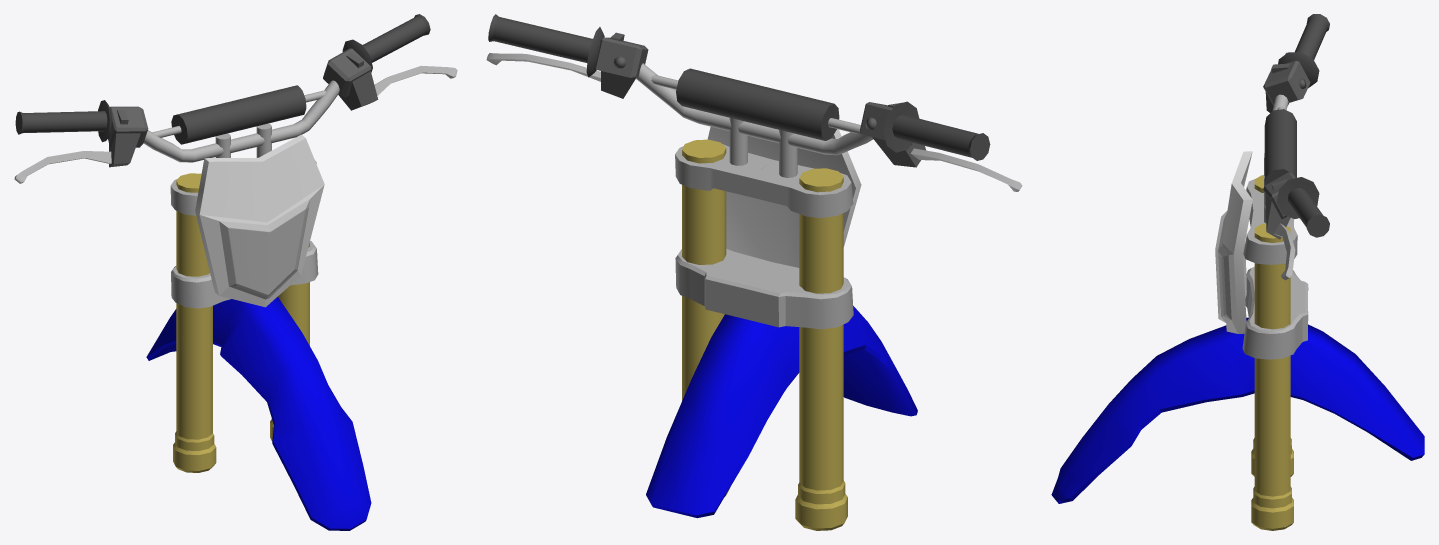
File: bike_motard_front_suspension.fbx
3 renders of one model, left to right at view 1: azimuth 30°, elevation 25°; view 2: azimuth 150°, elevation 25°; view 3: azimuth 270°, elevation 25°, orthographic. The views are drawn at different scales.
Visible parts, largest first — view 1: polySurface227; view 2: polySurface227; view 3: polySurface227.
Boxes of the visible parts, left/top/right/bottom form: polySurface227: left=14, top=14, right=457, bottom=530; polySurface227: left=486, top=14, right=1022, bottom=530; polySurface227: left=1051, top=14, right=1424, bottom=530.
Size of the model in its own units: 87.82 by 70.94 by 62.49.
